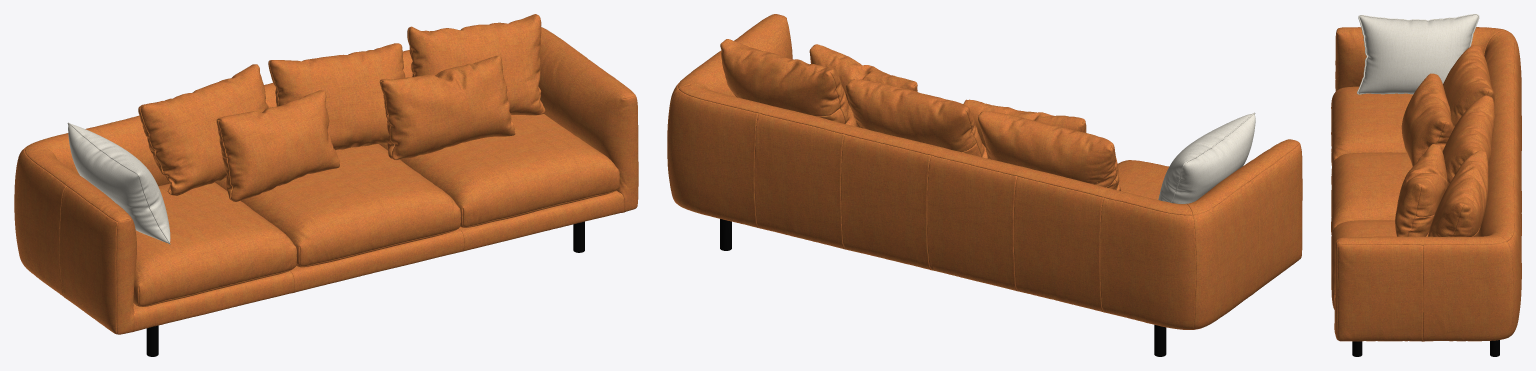
The model's file is rattan-chair.glb.
The picture shows the model from 3 angles, left to right: view 1: azimuth 30°, elevation 25°; view 2: azimuth 150°, elevation 25°; view 3: azimuth 270°, elevation 25°; orthographic projection. The views are drawn at different scales.
Parts seen in each view (by area): view 1: 651673-GENERIC-SOFA_CBOR5-leather_b, 821014-GENERIC-CUSHION_CUSHGEN14-fabric, 651673-GENERIC-SOFA_CBOR5-paint; view 2: 651673-GENERIC-SOFA_CBOR5-leather_b, 821014-GENERIC-CUSHION_CUSHGEN14-fabric, 651673-GENERIC-SOFA_CBOR5-paint; view 3: 651673-GENERIC-SOFA_CBOR5-leather_b, 821014-GENERIC-CUSHION_CUSHGEN14-fabric, 651673-GENERIC-SOFA_CBOR5-paint.
Boxes of the visible parts, <box> form: 651673-GENERIC-SOFA_CBOR5-leather_b: <box>14,14,638,334</box>; 821014-GENERIC-CUSHION_CUSHGEN14-fabric: <box>67,122,170,244</box>; 651673-GENERIC-SOFA_CBOR5-paint: <box>146,221,584,356</box>; 651673-GENERIC-SOFA_CBOR5-leather_b: <box>667,14,1302,329</box>; 821014-GENERIC-CUSHION_CUSHGEN14-fabric: <box>1158,112,1255,203</box>; 651673-GENERIC-SOFA_CBOR5-paint: <box>720,219,1166,356</box>; 651673-GENERIC-SOFA_CBOR5-leather_b: <box>1331,27,1521,341</box>; 821014-GENERIC-CUSHION_CUSHGEN14-fabric: <box>1357,14,1479,94</box>; 651673-GENERIC-SOFA_CBOR5-paint: <box>1352,340,1499,356</box>.
Size of the model in its own units: 2.55 by 0.875 by 0.92.
3 materials, 3 textured.
